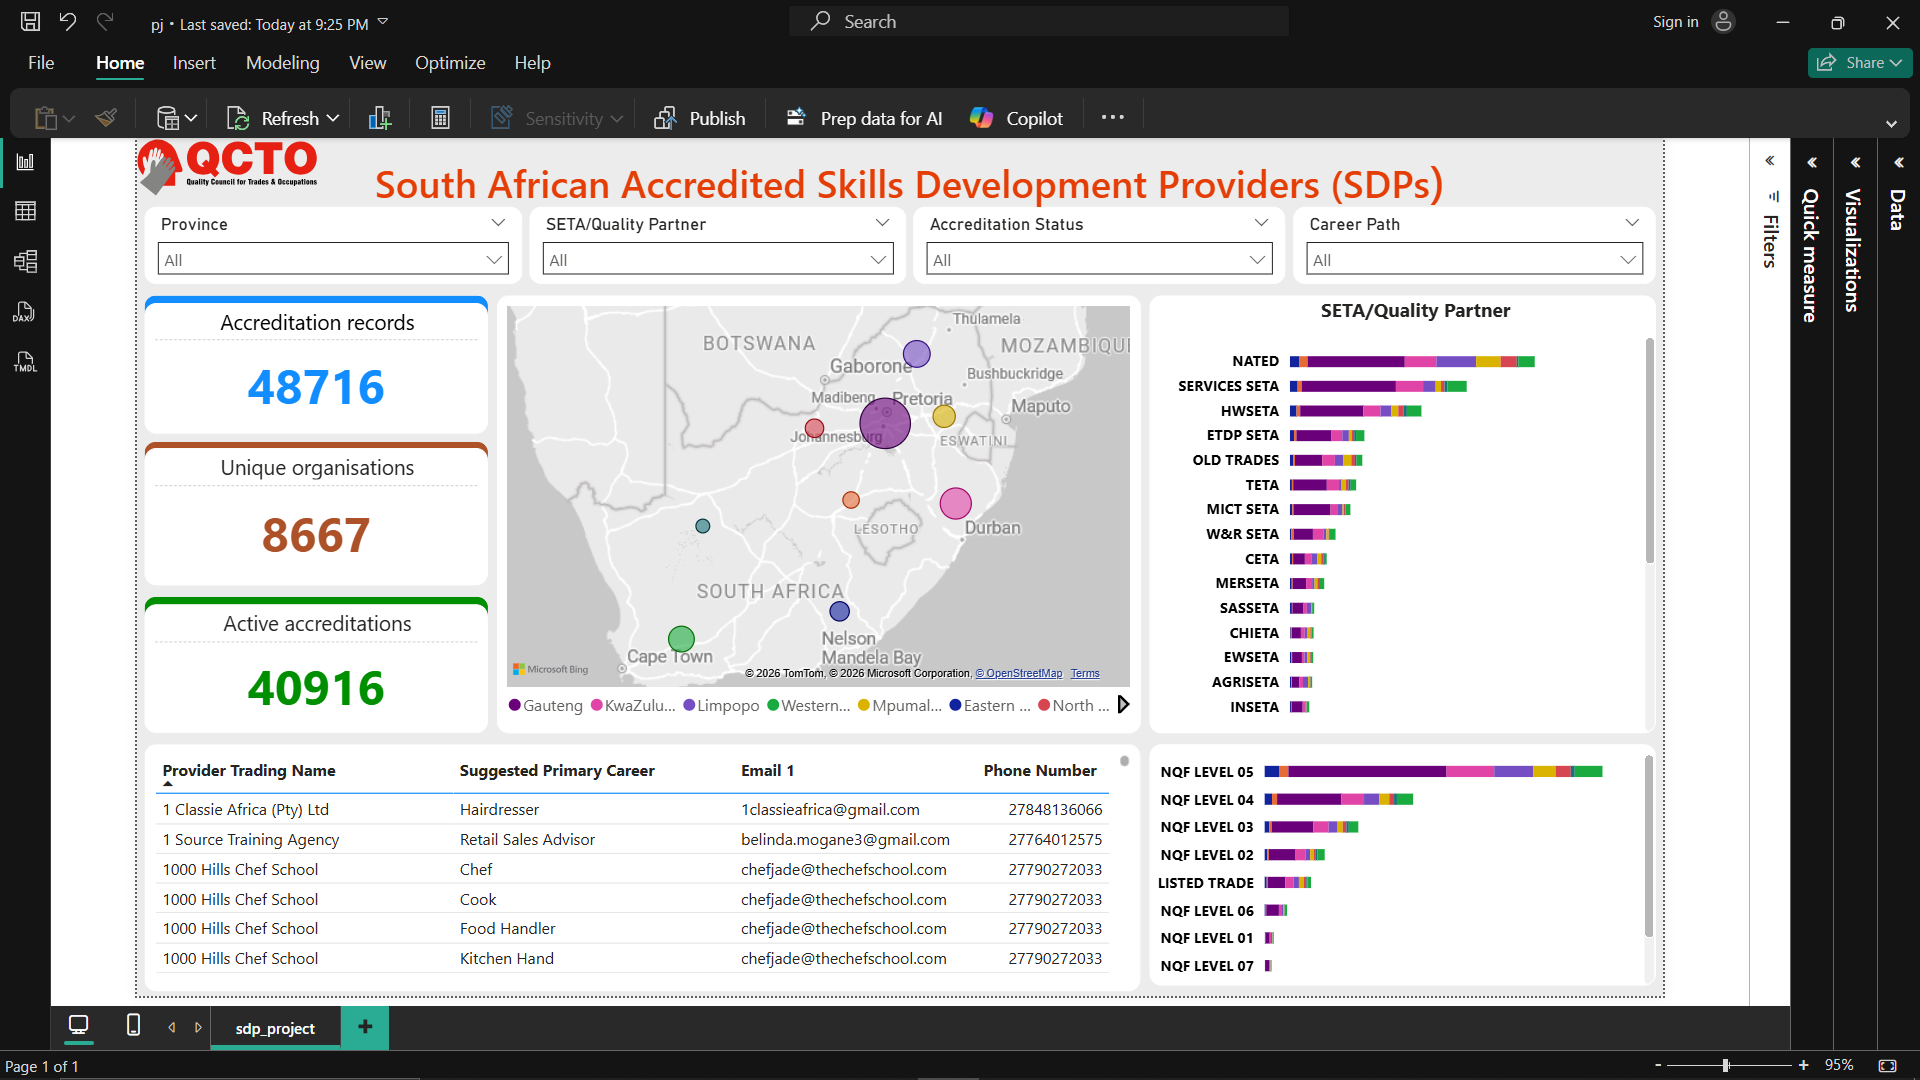

The dashboard page shown, as its layout file describes it:
{"tool":"powerbi","page":{"name":"sdp_project","canvas":[1280,720],"ordinal":0},"visuals":[{"type":"tableEx","fields":{"Values":["SDP Clean v6 Linked.Provider Trading Name","SDP Clean v6 Linked.Suggested Primary Career","SDP Clean v6 Linked.Email 1","SDP Clean v6 Linked.Phone Number"]},"box":[6.1,508,835.6,207.4],"z":3000},{"type":"map","fields":{"Category":["SDP Clean v6 Linked.Province"],"Series":["SDP Clean v6 Linked.Province"],"Size":["CountNonNull(SDP Clean v6 Linked.Provider Trading Name)"]},"box":[301.8,132.5,539.9,366.9],"z":4000},{"type":"barChart","title":" SETA/Quality Partner ","fields":{"Series":["SDP Clean v6 Linked.Province"],"Y":["CountNonNull(SDP Clean v6 Linked.Province)"],"Category":["SDP Clean v6 Linked.Quality Partner"]},"box":[849.1,132.5,425,367],"z":5000},{"type":"slicer","fields":{"Values":["SDP Clean v6 Linked.Province"]},"box":[6.1,57.7,316.6,65],"z":6000},{"type":"barChart","fields":{"Category":["SDP Clean v6 Linked.NQF Level"],"Y":["CountNonNull(SDP Clean v6 Linked.Province)"],"Series":["SDP Clean v6 Linked.Province"]},"box":[849.1,508,424.5,202.5],"z":7000},{"type":"shape","box":[6.1,132.5,288.3,23.3],"z":9000},{"type":"card","title":"Accreditation records","fields":{"Values":["CountNonNull(SDP Clean v6 Linked.Qualification Title)"]},"box":[6.1,138,288.3,109.2],"z":10000},{"type":"shape","box":[6.1,255,288.3,23.3],"z":11000},{"type":"card","title":"Unique organisations","fields":{"Values":["Count(SDP Clean v6 Linked.Provider Trading Name)"]},"box":[6.1,260,288.3,115.3],"z":12000},{"type":"shape","box":[6.1,385,288.3,23.3],"z":12001},{"type":"card","title":"Active accreditations","fields":{"Values":["SDP Clean v6 Linked.Active Accreditations"]},"box":[6.1,391.4,288.3,108],"z":12002},{"type":"slicer","fields":{"Values":["SDP Clean v6 Linked.Quality Partner"]},"box":[329,57.7,316,65],"z":12003},{"type":"slicer","fields":{"Values":["SDP Clean v6 Linked.Status"]},"box":[651,57.7,312,65],"z":12004},{"type":"slicer","fields":{"Values":["SDP Clean v6 Linked.Suggested Primary Career"]},"box":[969.3,57.7,304.3,65],"z":12005},{"type":"image","box":[0,0,150.9,50.3],"z":12006},{"type":"textbox","box":[138.7,4.9,1019.6,62.6],"z":12007}]}

Visuals, with their boxes on the page's 1280x720 design canvas (x1, y1, x2, y2). These are canvas units, not pixel positions in the 1920x1080 screenshot, which may show the page scaled, cropped or inside an application window:
tableEx - SDP Clean v6 Linked.Provider Trading Name x SDP Clean v6 Linked.Suggested Primary Career: <bbox>6, 508, 842, 715</bbox>
map - SDP Clean v6 Linked.Province x SDP Clean v6 Linked.Province: <bbox>302, 132, 842, 499</bbox>
" SETA/Quality Partner " barChart: <bbox>849, 132, 1274, 500</bbox>
slicer - SDP Clean v6 Linked.Province: <bbox>6, 58, 323, 123</bbox>
barChart - SDP Clean v6 Linked.NQF Level x CountNonNull(SDP Clean v6 Linked.Province): <bbox>849, 508, 1274, 710</bbox>
shape: <bbox>6, 132, 294, 156</bbox>
"Accreditation records" card: <bbox>6, 138, 294, 247</bbox>
shape: <bbox>6, 255, 294, 278</bbox>
"Unique organisations" card: <bbox>6, 260, 294, 375</bbox>
shape: <bbox>6, 385, 294, 408</bbox>
"Active accreditations" card: <bbox>6, 391, 294, 499</bbox>
slicer - SDP Clean v6 Linked.Quality Partner: <bbox>329, 58, 645, 123</bbox>
slicer - SDP Clean v6 Linked.Status: <bbox>651, 58, 963, 123</bbox>
slicer - SDP Clean v6 Linked.Suggested Primary Career: <bbox>969, 58, 1274, 123</bbox>
image: <bbox>0, 0, 151, 50</bbox>
textbox: <bbox>139, 5, 1158, 68</bbox>
